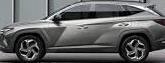SUV: (1, 4, 165, 63)
